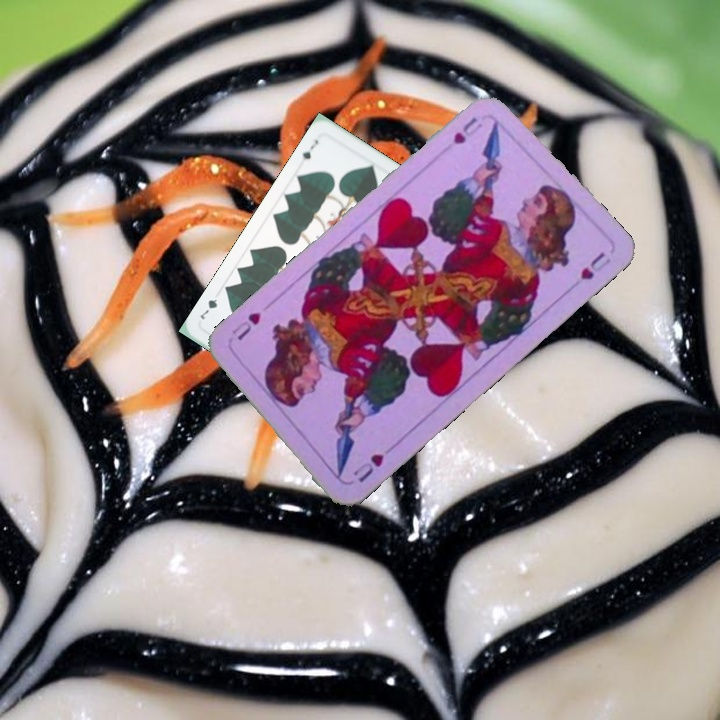G7: (298, 135, 321, 163)
HU: (349, 449, 387, 485), (449, 113, 485, 147)
